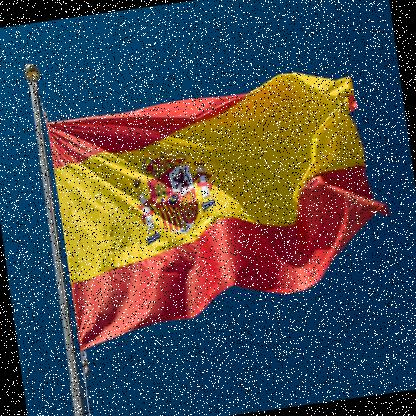es: (41, 57, 409, 357)
